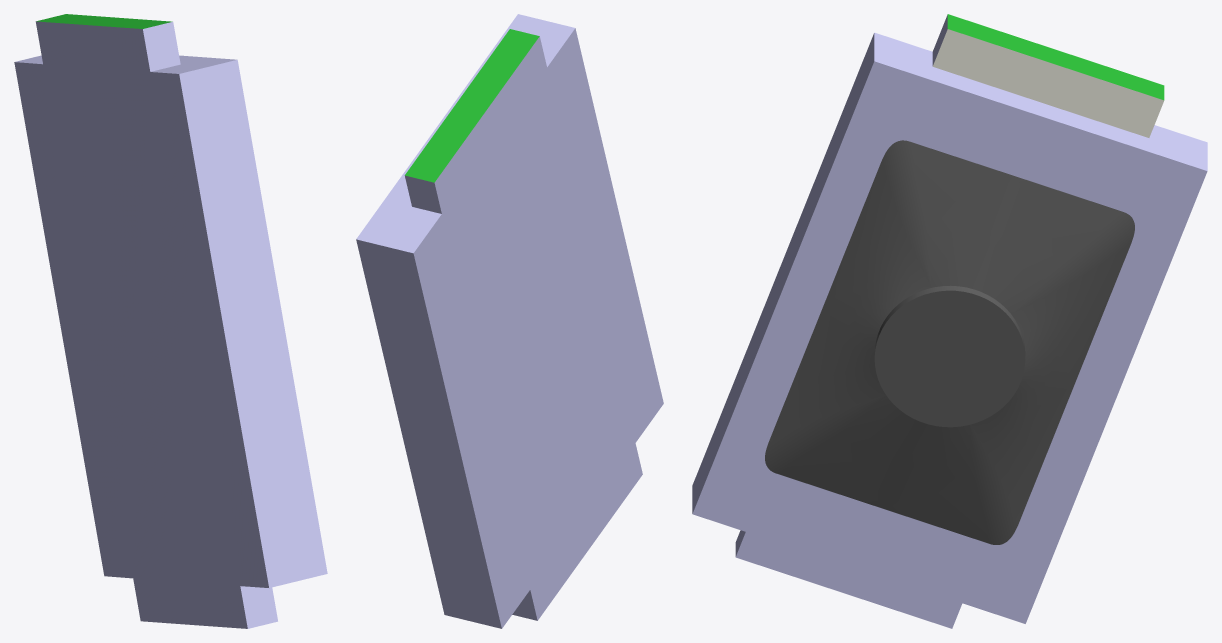
Rendered from EBoxNewAsm_stp_1_IMC413_stp_1_IMC413_6_stp_1_solid1.obj.
The picture shows the model from 3 angles, left to right: view 1: azimuth 30°, elevation 25°; view 2: azimuth 150°, elevation 25°; view 3: azimuth 270°, elevation 25°; orthographic projection. The views are drawn at different scales.
Parts seen in each view (by area): view 1: mesh8327, mesh8320, mesh8325, mesh8330, mesh8324, mesh8322; view 2: mesh8327, mesh8321, mesh8324, mesh8322, mesh8326; view 3: mesh8319, mesh8316, mesh8314, mesh8309, mesh8311, mesh8317, mesh8323, mesh8322, mesh8331, mesh8320, mesh8324, mesh8315 (+4 smaller).
Part boxes in pixels (x1=…): mesh8327: x1=14, y1=21, x2=268, y2=628; mesh8320: x1=179, y1=60, x2=327, y2=587; mesh8325: x1=143, y1=22, x2=180, y2=71; mesh8330: x1=240, y1=586, x2=277, y2=628; mesh8324: x1=36, y1=14, x2=172, y2=28; mesh8322: x1=15, y1=55, x2=236, y2=73; mesh8327: x1=413, y1=28, x2=663, y2=628; mesh8321: x1=356, y1=239, x2=501, y2=628; mesh8324: x1=405, y1=29, x2=539, y2=182; mesh8322: x1=356, y1=14, x2=574, y2=253; mesh8326: x1=405, y1=175, x2=441, y2=213; mesh8319: x1=692, y1=61, x2=1207, y2=623; mesh8316: x1=910, y1=141, x2=1122, y2=313; mesh8314: x1=769, y1=161, x2=931, y2=441; mesh8309: x1=874, y1=290, x2=1025, y2=427; mesh8311: x1=777, y1=396, x2=989, y2=543; mesh8317: x1=971, y1=243, x2=1131, y2=524; mesh8323: x1=933, y1=29, x2=1164, y2=137; mesh8322: x1=874, y1=32, x2=1207, y2=170; mesh8331: x1=735, y1=532, x2=962, y2=628; mesh8320: x1=692, y1=33, x2=874, y2=513; mesh8324: x1=947, y1=14, x2=1164, y2=100; mesh8315: x1=882, y1=140, x2=931, y2=286.
Size of the model in its own units: 0.0006 by 0.00373 by 0.00291.
